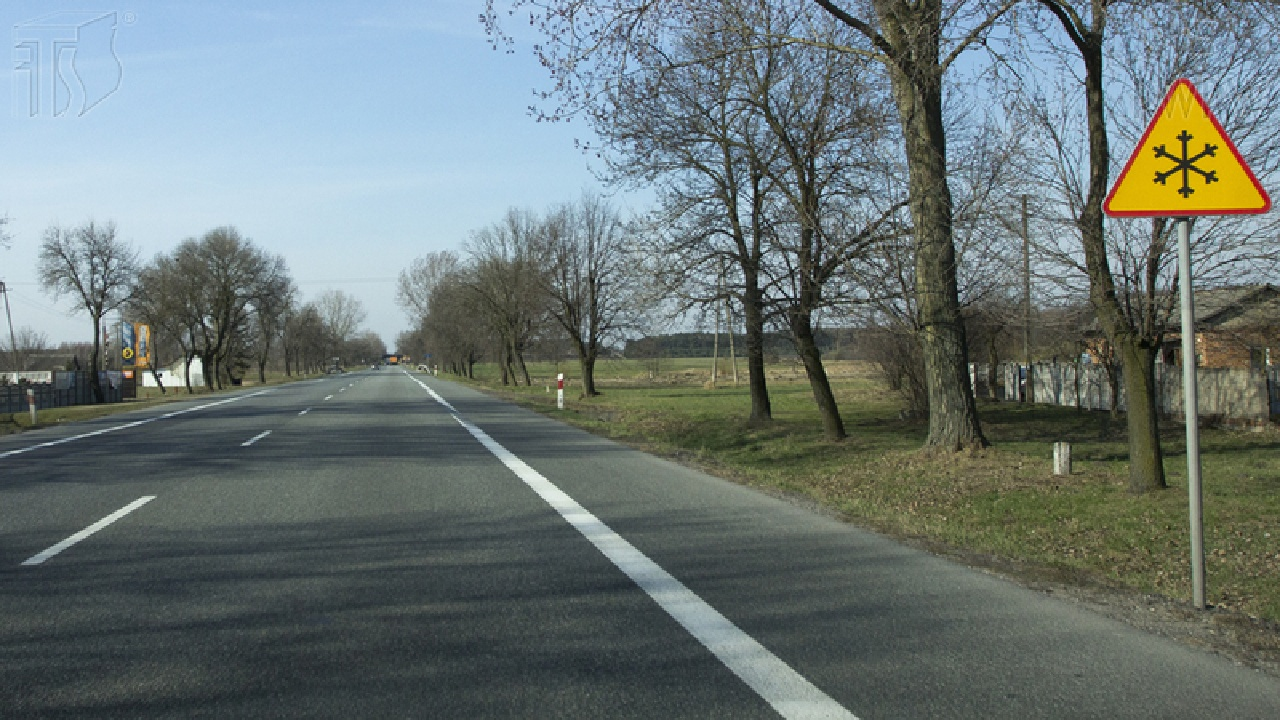A32: (1100, 78, 1272, 214)
